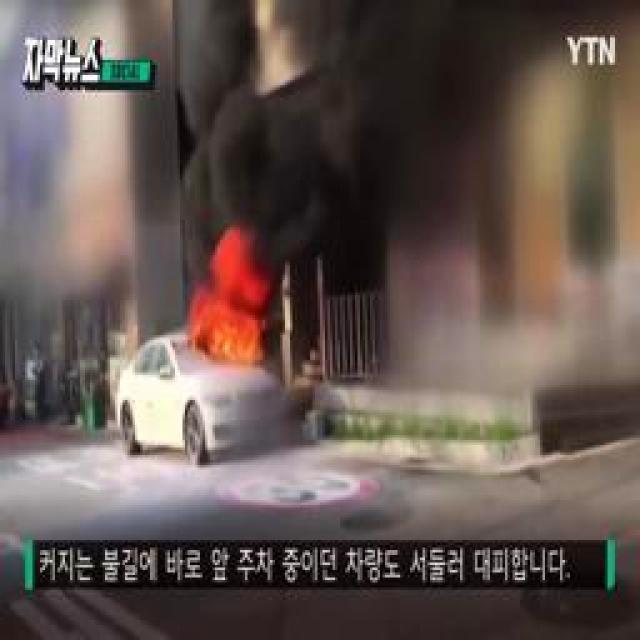Fire: (201, 249, 269, 365)
